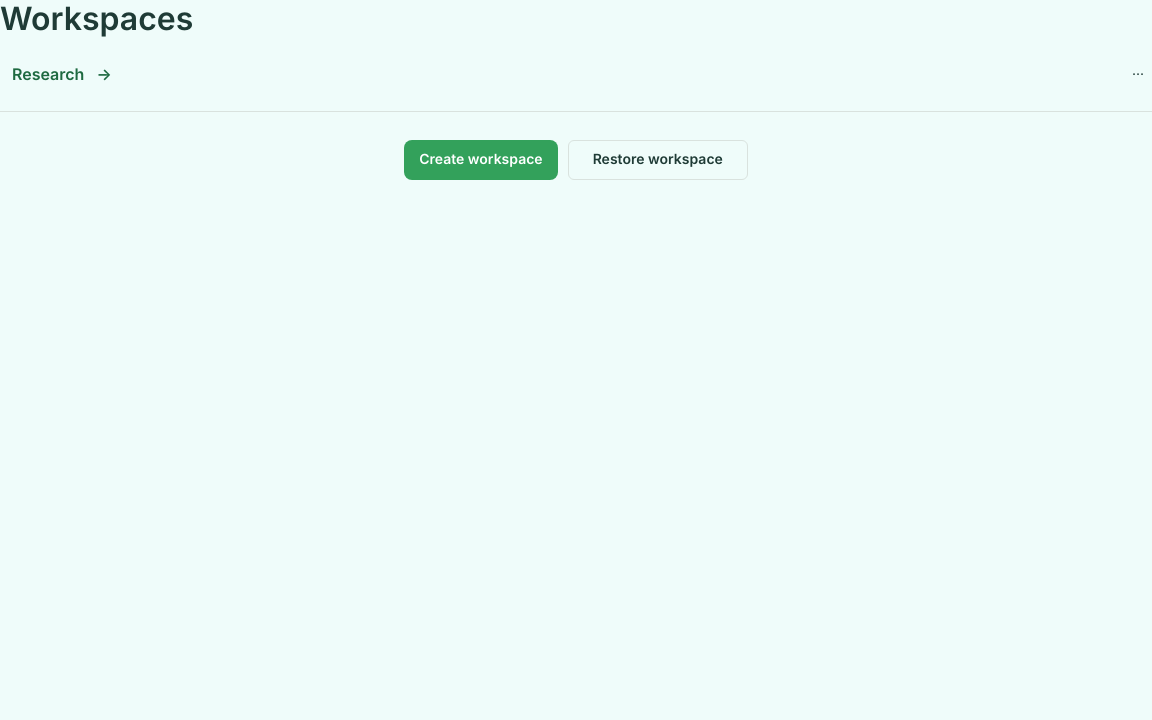
Test: groups workspace actions behind one menu and opens rename dialog
Expected: the field labelled "Rename" is not shown
Click the button named "Actions for Research". click: click(1138, 75)
box: 1124,60 -> 1151,90
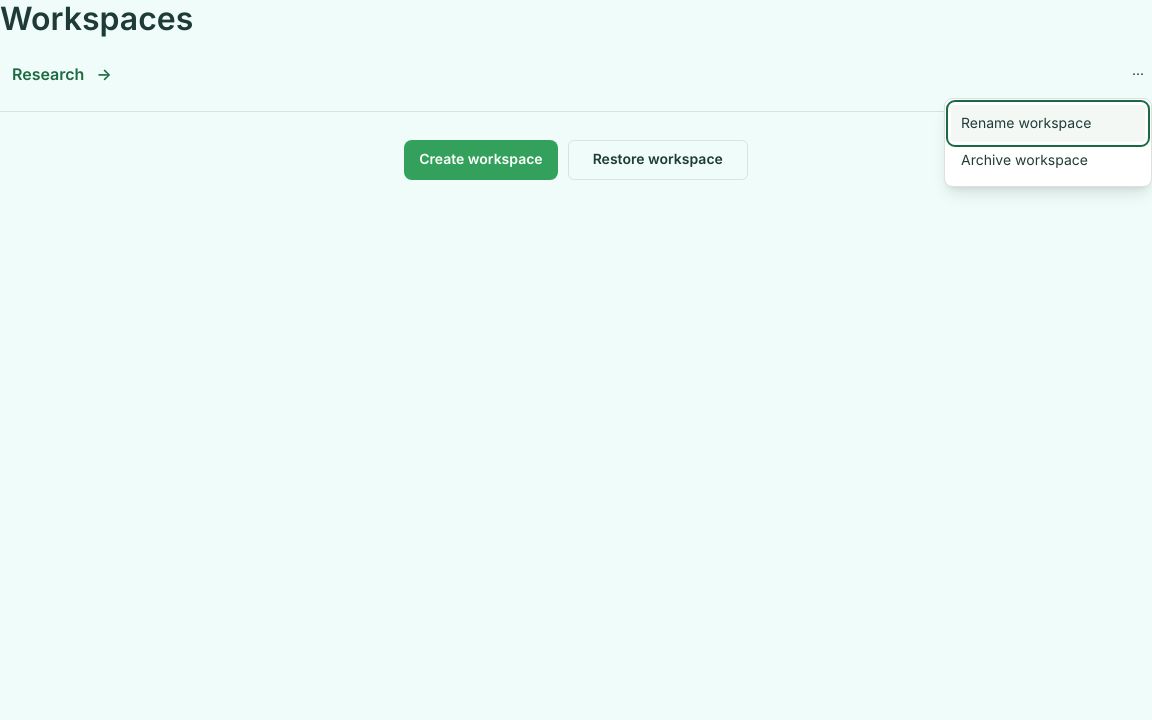
Click the menu item "Rename workspace". click: click(1048, 123)
box: 951,105 -> 1145,142
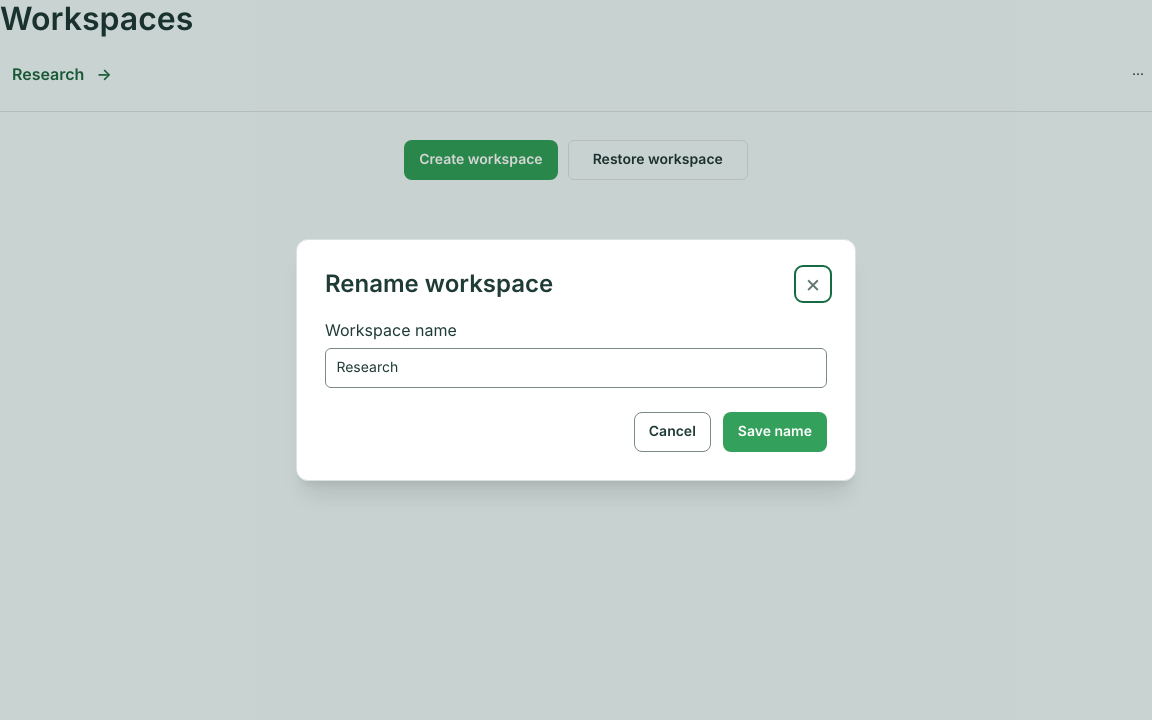
Expected: the dialog "Rename workspace" is shown, 296,239 -> 856,481
